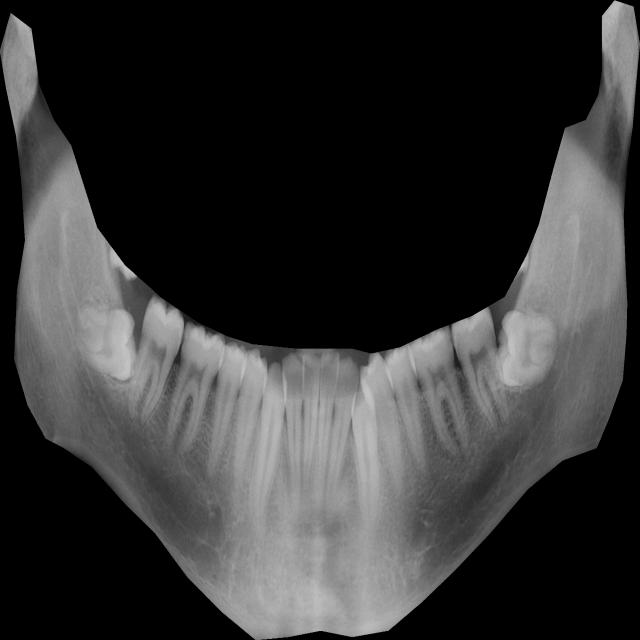mandibula: (0, 0, 640, 640)
